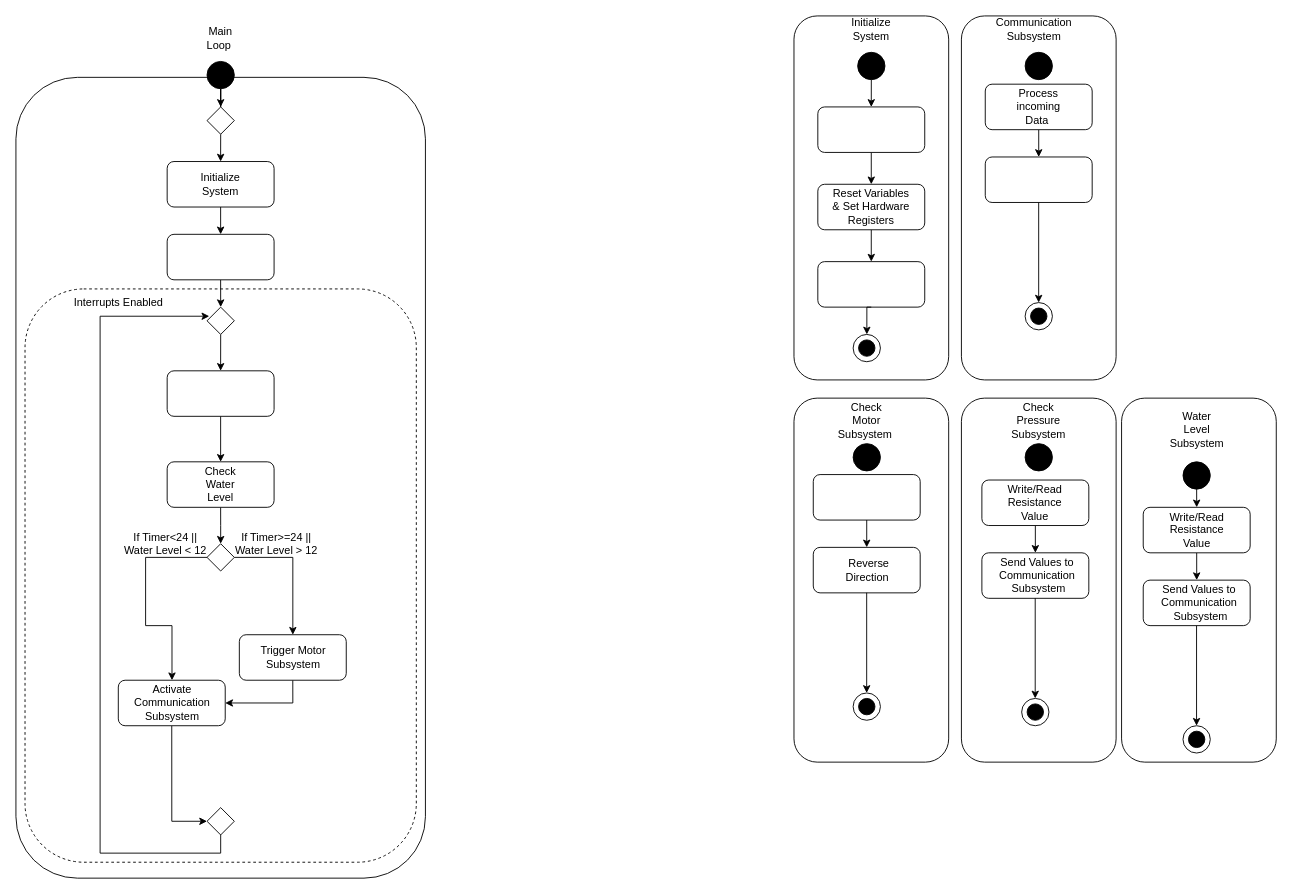
This 1292x895 diagram has some shape labels left out. Here are the shapes that lost their labels. From the top down, the centre of each, then its label:
(x=871, y=129): Initialize EUSART, Clocks, Timers
(x=1038, y=179): Send Values to EUSART
(x=220, y=256): Enable Interrupts
(x=871, y=284): Establish Communication
(x=220, y=393): Check Pressure Sensor
(x=866, y=497): Turn on for 10s
